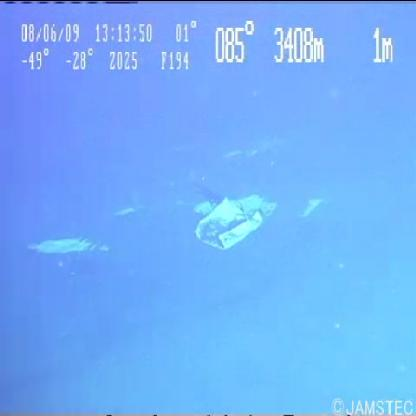Rác: (185, 181, 280, 267)
